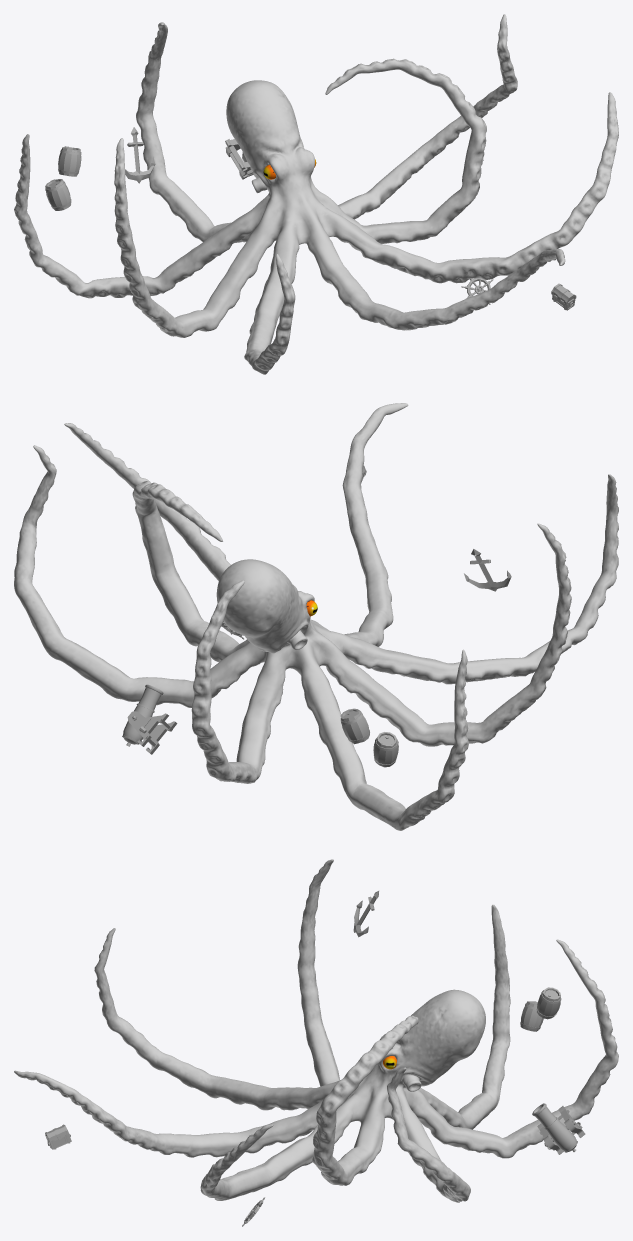
Rendered from Kraken.fbx.
The picture shows the model from 3 angles, top to bottom: view 1: azimuth 30°, elevation 25°; view 2: azimuth 150°, elevation 25°; view 3: azimuth 270°, elevation 25°; orthographic projection. The views are drawn at different scales.
Parts seen in each view (by area): view 1: Kraken001, Barrel1_pCylinder2, Barrel1_pCylinder3, Anchor1_pCube11, Canon2; view 2: Kraken001, Canon2, Barrel1_pCylinder3, Barrel1_pCylinder2, Anchor1_pCube11; view 3: Kraken001, Canon2, Barrel1_pCylinder3, Barrel1_pCylinder2.
Boxes of the visible parts, x1,y1,x2,y2 form: Kraken001: (14, 14, 618, 374); Barrel1_pCylinder2: (45, 179, 71, 210); Barrel1_pCylinder3: (58, 146, 81, 176); Anchor1_pCube11: (125, 127, 155, 183); Canon2: (225, 139, 253, 179); Kraken001: (14, 403, 618, 830); Canon2: (122, 684, 177, 754); Barrel1_pCylinder3: (340, 708, 369, 744); Barrel1_pCylinder2: (373, 732, 398, 767); Anchor1_pCube11: (464, 549, 511, 591); Kraken001: (14, 859, 618, 1202); Canon2: (532, 1103, 585, 1154); Barrel1_pCylinder3: (536, 987, 561, 1019); Barrel1_pCylinder2: (520, 1001, 543, 1031).
Bounding box in the file's own units: 44.61 × 20.5 × 49.05.
